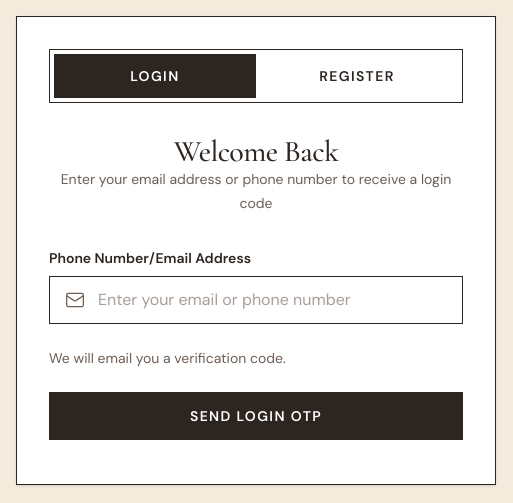
Test case: CustomerLoginForm › renders reCAPTCHA before requesting a Firebase phone code
Type "9876543210" into the field with placeholder "Enter your email or phone number" at x=256, y=300, box x1=49 y1=276 x2=463 y2=324
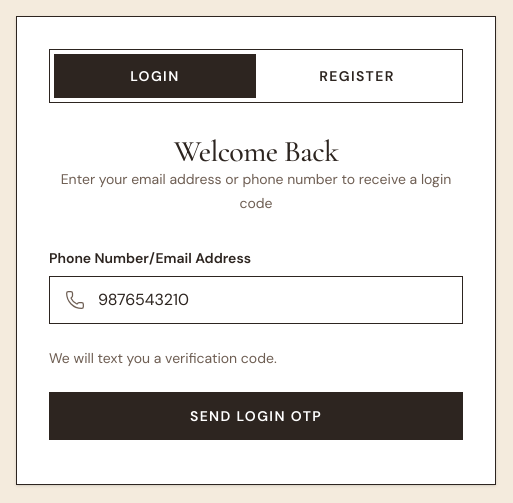
Click the button "SEND LOGIN OTP" at x=256, y=416, box x1=49 y1=392 x2=463 y2=440
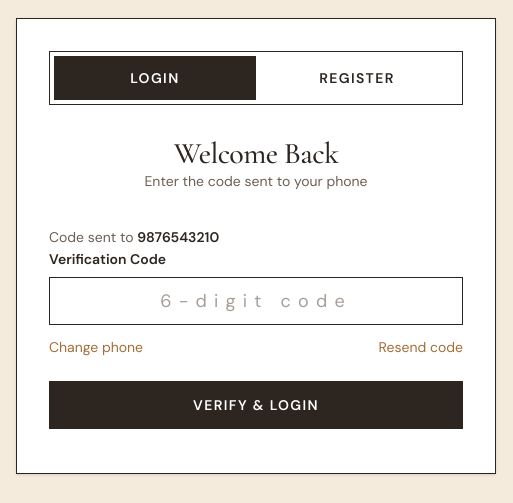
Check: the text "Enter the code sent to your phone" is shown, box x1=144 y1=172 x2=368 y2=190
